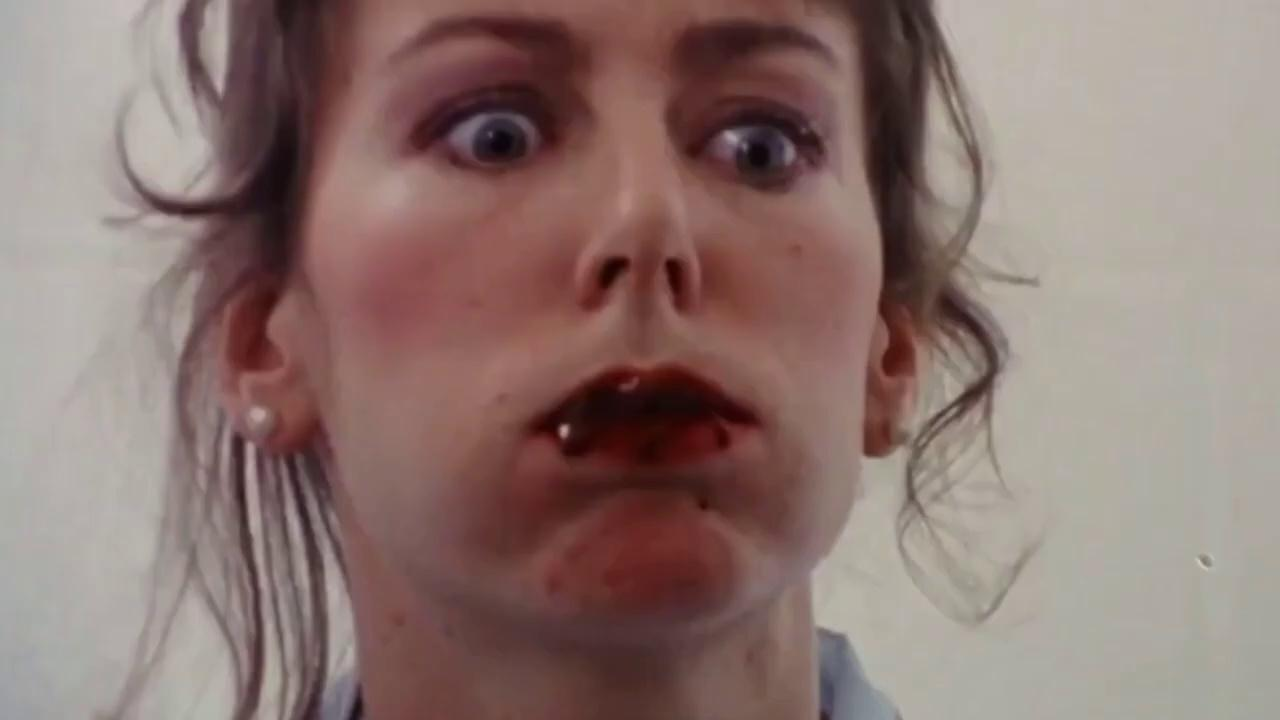Fire: (558, 383, 742, 462)
